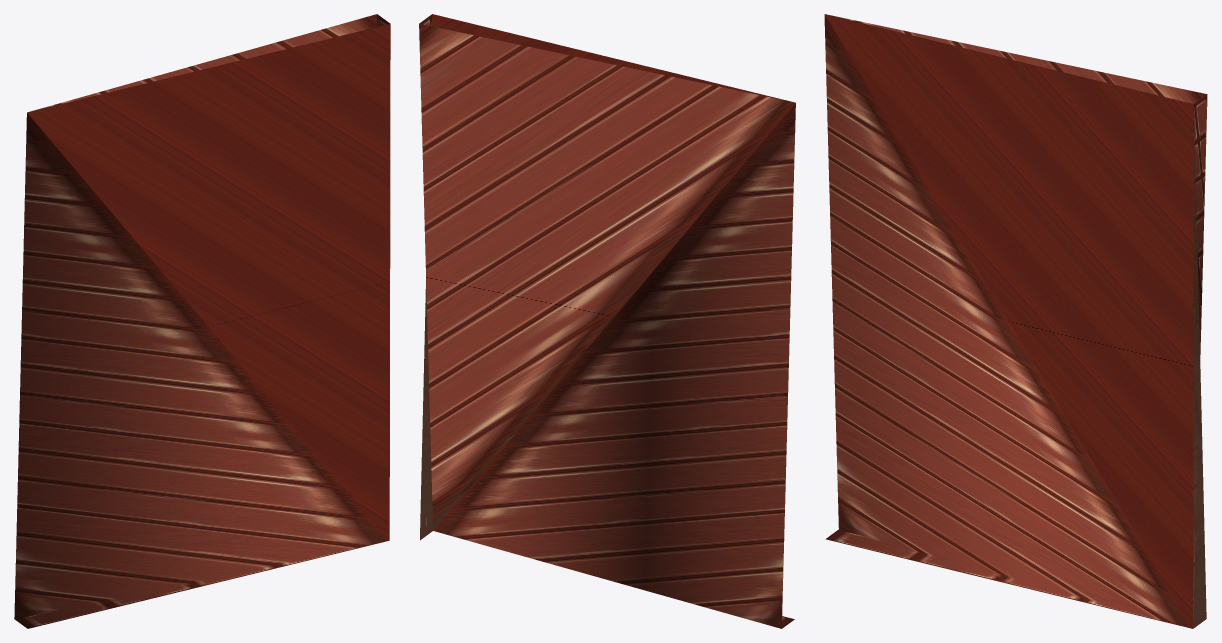
Rendered from cantina_door.fbx.
The picture shows the model from 3 angles, left to right: view 1: azimuth 30°, elevation 25°; view 2: azimuth 150°, elevation 25°; view 3: azimuth 330°, elevation 25°; orthographic projection.
Parts seen in each view (by area): view 1: mesh_node; view 2: mesh_node; view 3: mesh_node.
Part boxes in pixels (box(x1,y1,x2,y2)): mesh_node: box(14, 14, 390, 628); mesh_node: box(419, 14, 795, 628); mesh_node: box(824, 14, 1207, 628).
Size of the model in its own units: 2.39 by 3.25 by 0.152.
2 materials, 2 textured.
